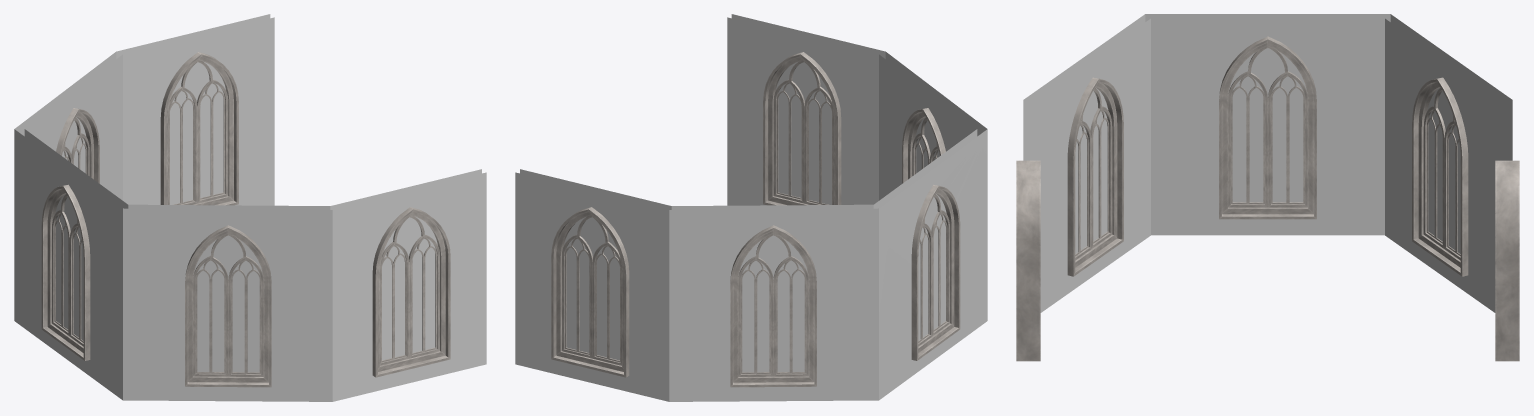
File: Ambulatory_Inner_A_B.fbx
The picture shows the model from 3 angles, left to right: view 1: azimuth 30°, elevation 25°; view 2: azimuth 150°, elevation 25°; view 3: azimuth 270°, elevation 25°; orthographic projection. The views are drawn at different scales.
Visible parts, largest first — view 1: Ambulatory_Inner_A_B; view 2: Ambulatory_Inner_A_B; view 3: Ambulatory_Inner_A_B.
Part boxes in pixels (<box>): Ambulatory_Inner_A_B: <box>14,14,486,401</box>; Ambulatory_Inner_A_B: <box>515,14,987,401</box>; Ambulatory_Inner_A_B: <box>1016,14,1519,361</box>.
Size of the model in its own units: 10.31 by 12.61 by 6.
